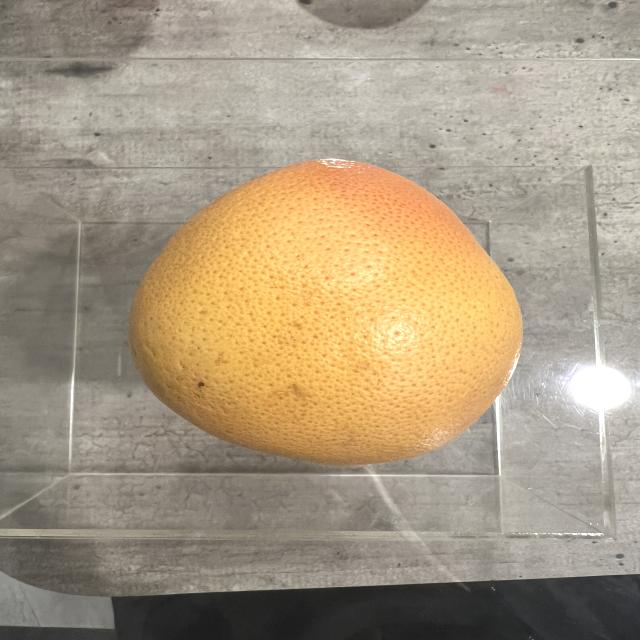grapefruit: (128, 158, 522, 462)
